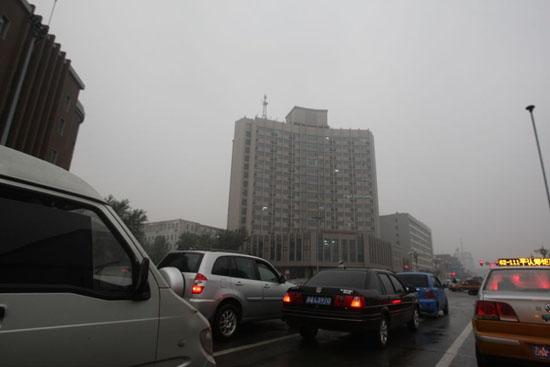car: (1, 143, 218, 367), (151, 249, 304, 340), (280, 265, 422, 347), (468, 258, 550, 367), (393, 272, 450, 316), (449, 279, 483, 293)
